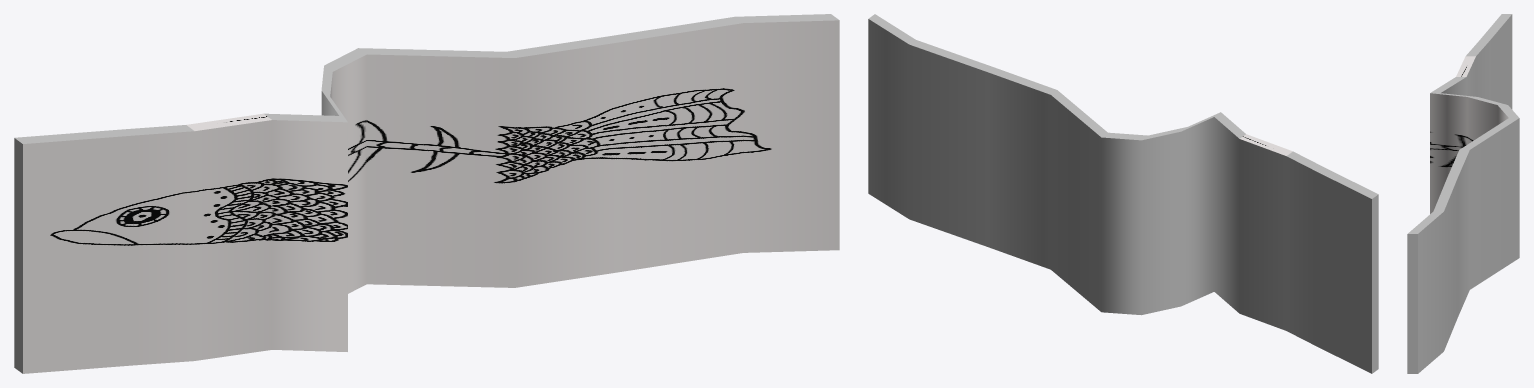
File: fishywishy.fbx
3 renders of one model, left to right at view 1: azimuth 30°, elevation 25°; view 2: azimuth 150°, elevation 25°; view 3: azimuth 270°, elevation 25°, orthographic. The views are drawn at different scales.
Parts seen in each view (by area): view 1: pCube2; view 2: pCube2; view 3: pCube2.
Boxes of the visible parts, x1,y1,x2,y2 form: pCube2: (14, 14, 839, 373); pCube2: (868, 14, 1378, 373); pCube2: (1407, 14, 1519, 373).
Size of the model in its own units: 27.19 by 8.08 by 5.85.
